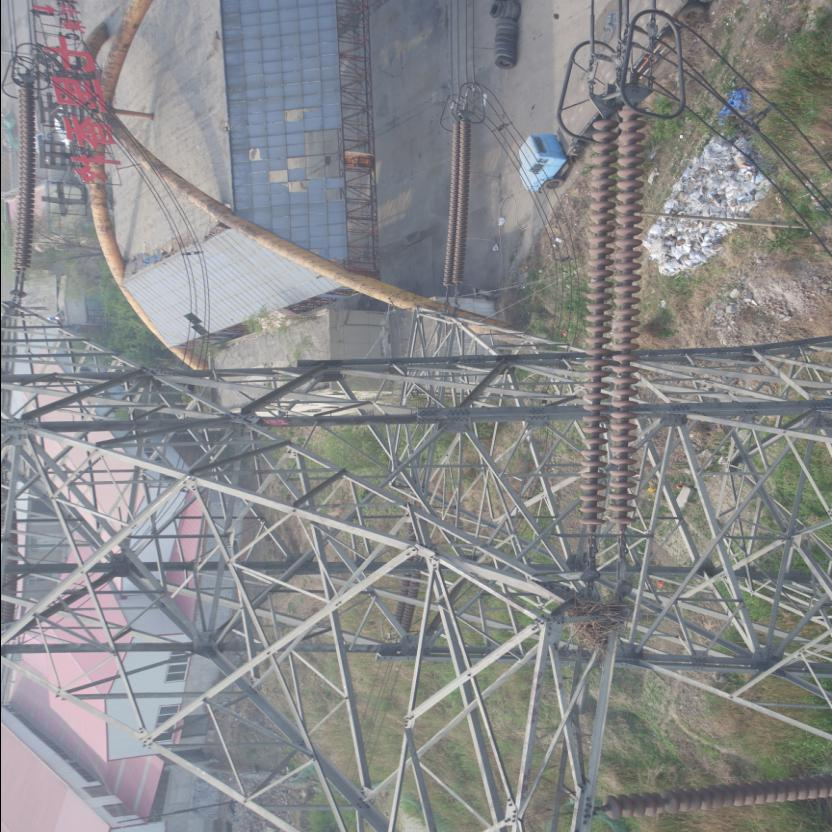insulator: (573, 101, 645, 555), (437, 115, 467, 299)
